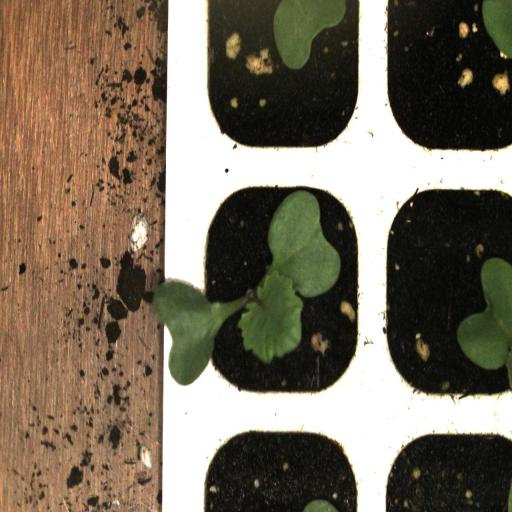Folha: (457, 257, 512, 372), (272, 0, 346, 70)
Germinacao: (188, 168, 372, 410)
